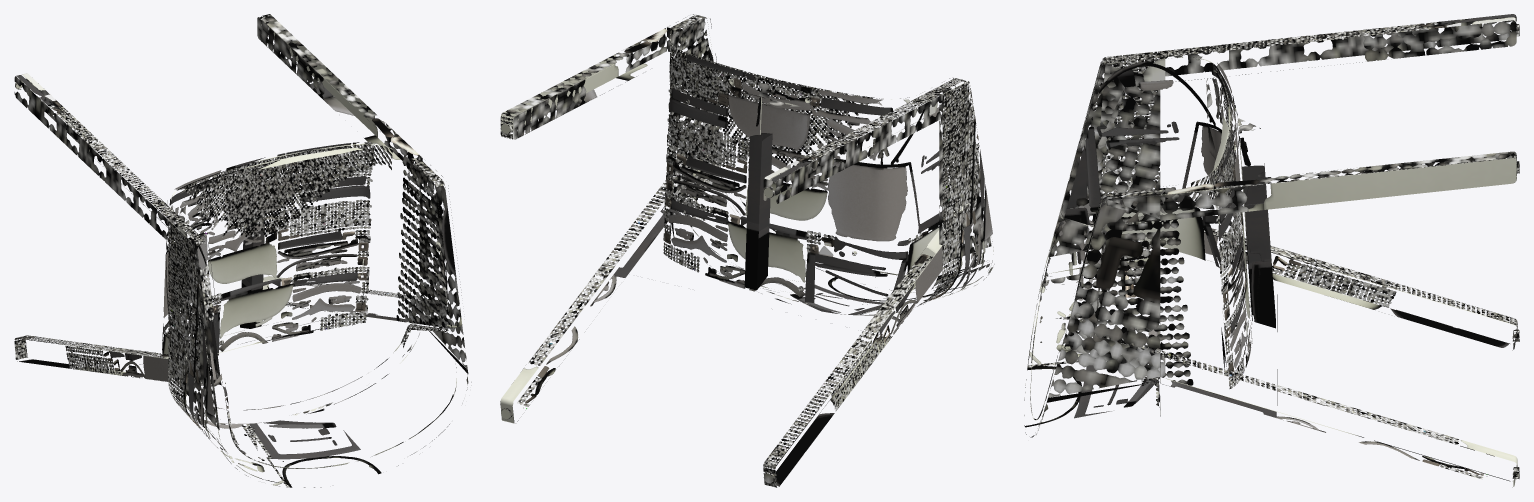
The picture shows the model from 3 angles, left to right: view 1: azimuth 30°, elevation 25°; view 2: azimuth 150°, elevation 25°; view 3: azimuth 270°, elevation 25°; orthographic projection. The views are drawn at different scales.
Bounding box in the file's own units: 0.5373 × 0.5743 × 0.7804.
